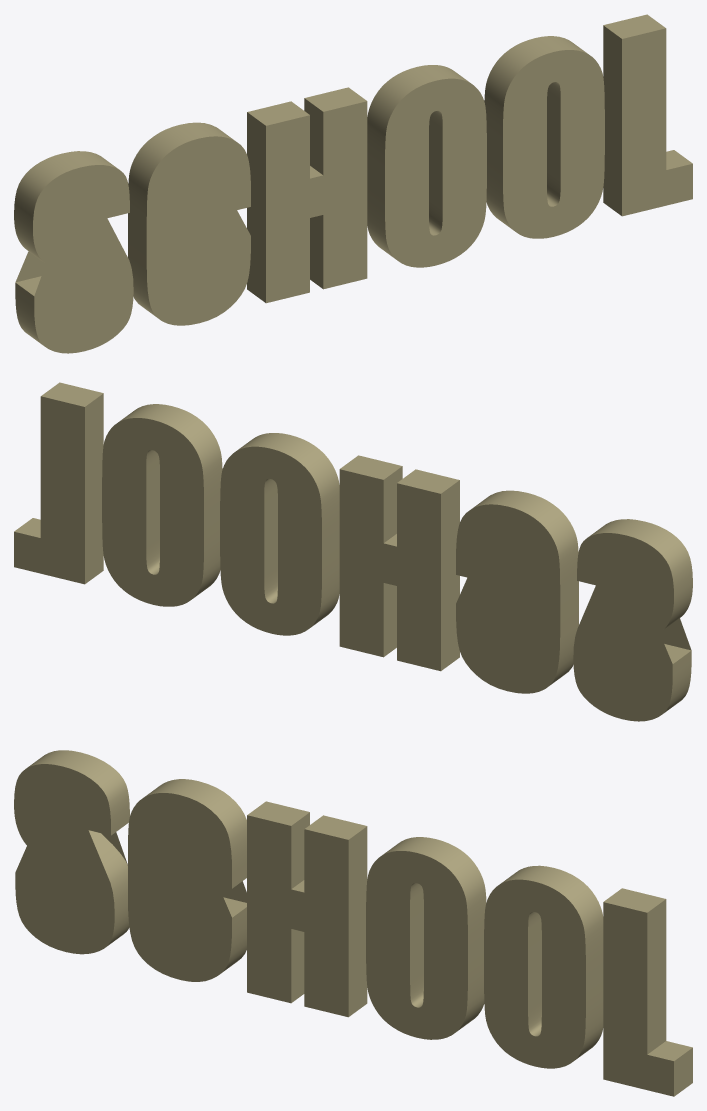
File: School.fbx
3 views of the same model, one above another, from view 1: azimuth 30°, elevation 25°; view 2: azimuth 150°, elevation 25°; view 3: azimuth 330°, elevation 25° (orthographic).
Visible parts, largest first — view 1: School; view 2: School; view 3: School.
Part boxes in pixels (x1,y1,x2,y2): School: [14, 14, 692, 353]; School: [14, 382, 692, 721]; School: [14, 750, 692, 1096].
Bounding box in the file's own units: 50.45 × 13.5 × 2.5.
